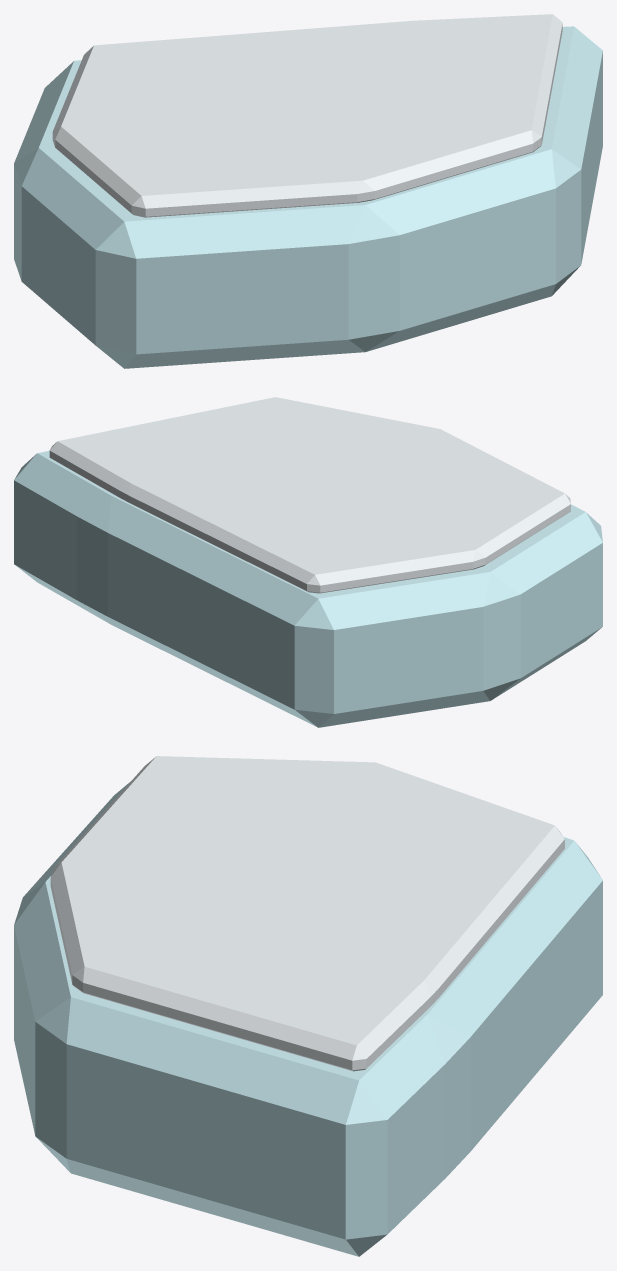
Rendered from ice_floe_b.glb.
The picture shows the model from 3 angles, top to bottom: view 1: azimuth 30°, elevation 25°; view 2: azimuth 150°, elevation 25°; view 3: azimuth 270°, elevation 25°; orthographic projection. The views are drawn at different scales.
Parts seen in each view (by area): view 1: ice_floe_b; view 2: ice_floe_b; view 3: ice_floe_b.
Boxes of the visible parts, x1,y1,x2,y2 form: ice_floe_b: [14, 14, 602, 368]; ice_floe_b: [14, 397, 602, 727]; ice_floe_b: [14, 756, 602, 1256].
Size of the model in its own units: 0.8317 by 0.225 by 0.6052.
